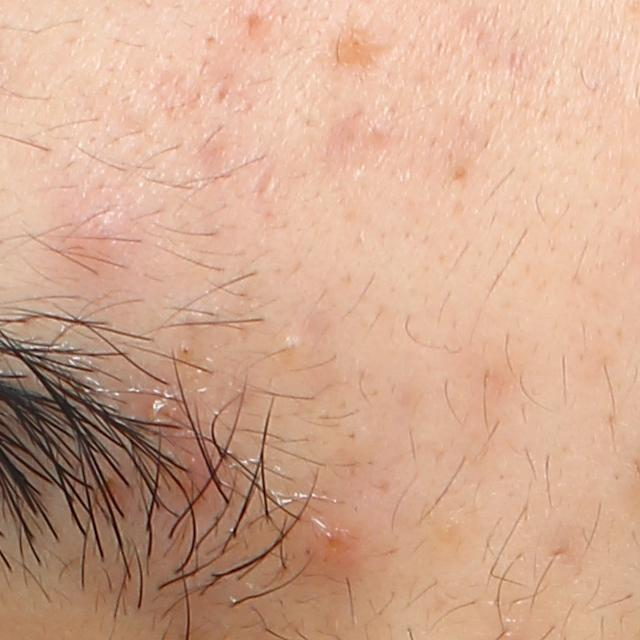atrophic_scar: (251, 155, 280, 200), (207, 77, 234, 108)
comedo: (273, 330, 307, 361)
papule: (55, 185, 148, 282), (290, 508, 367, 579)
